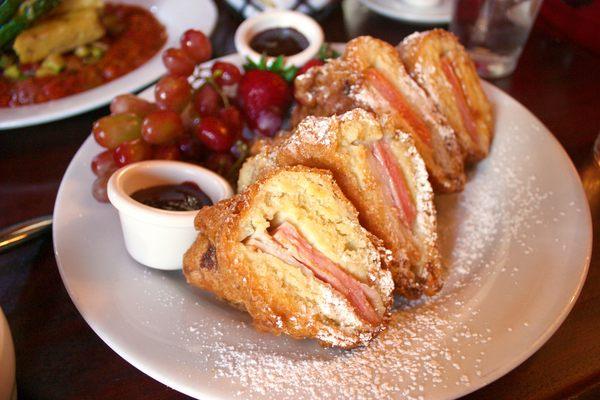sushi: (105, 158, 234, 270), (234, 9, 325, 73)
